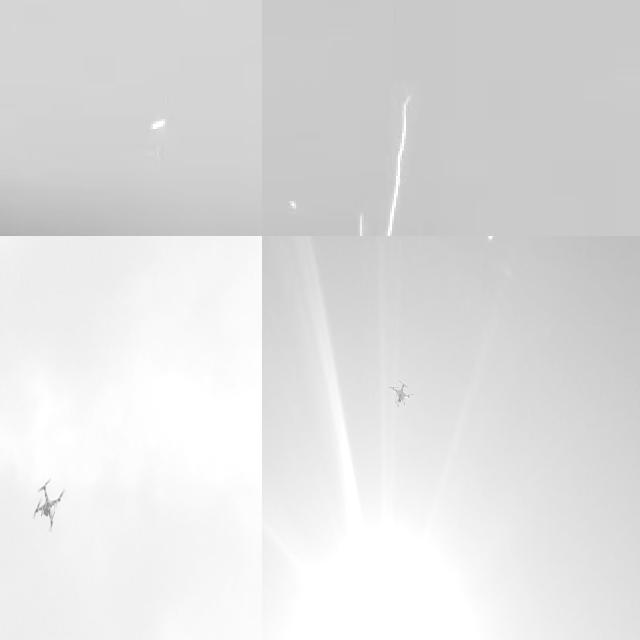0: (281, 192, 307, 222)
1: (143, 114, 173, 144)
drone: (27, 478, 66, 528), (388, 374, 411, 413)
